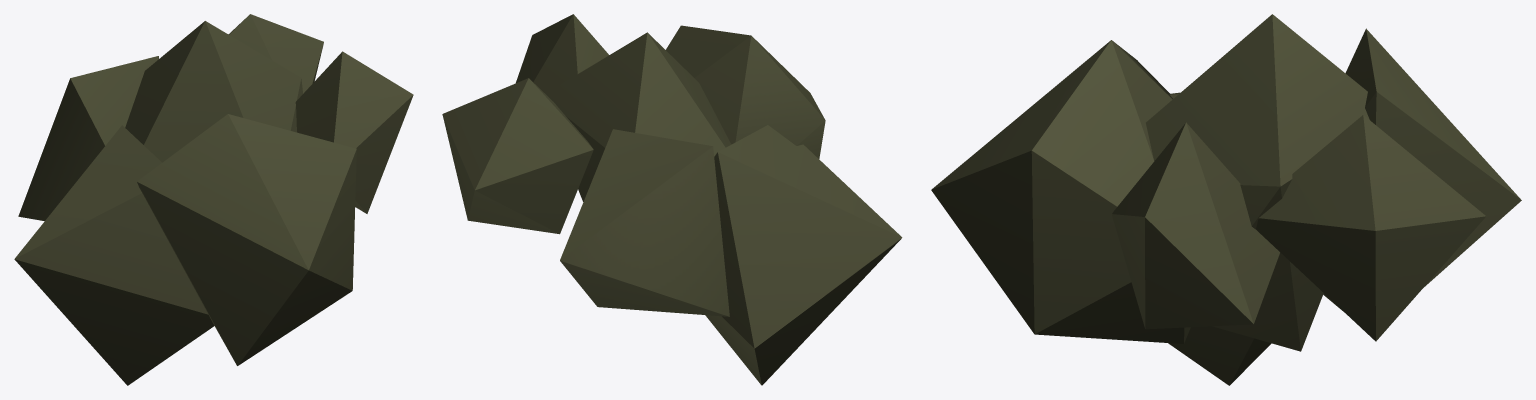
The model's file is shrub_b_LOD1.glb.
3 renders of one model, left to right at view 1: azimuth 30°, elevation 25°; view 2: azimuth 150°, elevation 25°; view 3: azimuth 270°, elevation 25°, orthographic. The views are drawn at different scales.
Parts seen in each view (by area): view 1: Body_LOD1; view 2: Body_LOD1; view 3: Body_LOD1.
Boxes of the visible parts, box(x1,y1,x2,y2) form: Body_LOD1: box(14, 14, 413, 385); Body_LOD1: box(442, 14, 902, 385); Body_LOD1: box(931, 14, 1521, 385).
Size of the model in its own units: 3.28 by 2.74 by 3.39.
